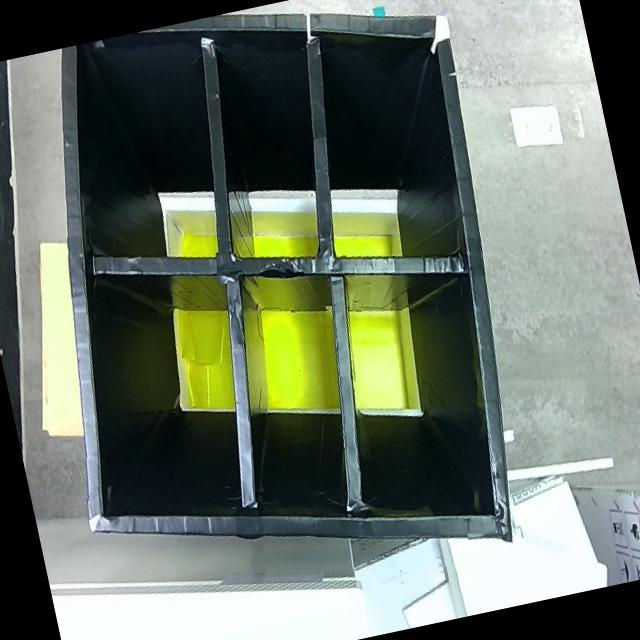box: (0, 0, 561, 630)
